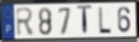6: (117, 6, 132, 34)
7: (57, 7, 73, 36)
8: (37, 7, 53, 36)
L: (98, 6, 113, 35)
R: (15, 7, 36, 37)
T: (76, 4, 93, 38)
